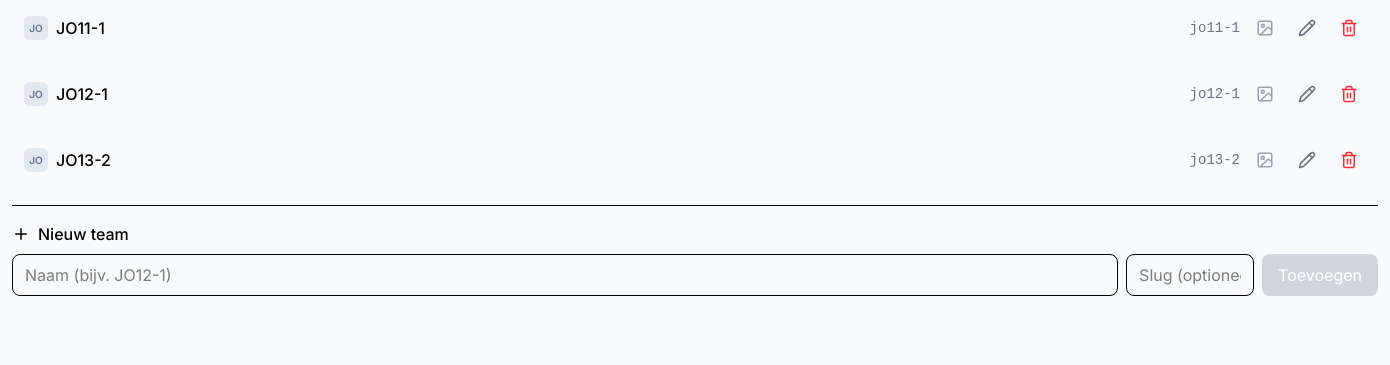
Test: TeamsTab › Create Team (CRUD) › shows Dutch success message after creating team
In the field with placeholder "Naam (bijv. JO12-1)": (565, 275) 12,254 -> 1118,296, type "JO14-1"
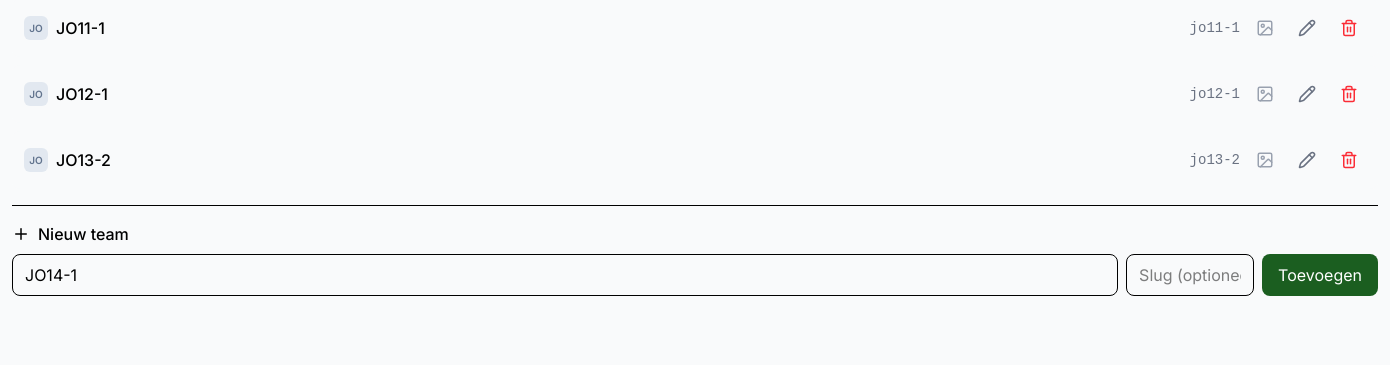
Click the button "Toevoegen": (1320, 275) 1262,254 -> 1378,296
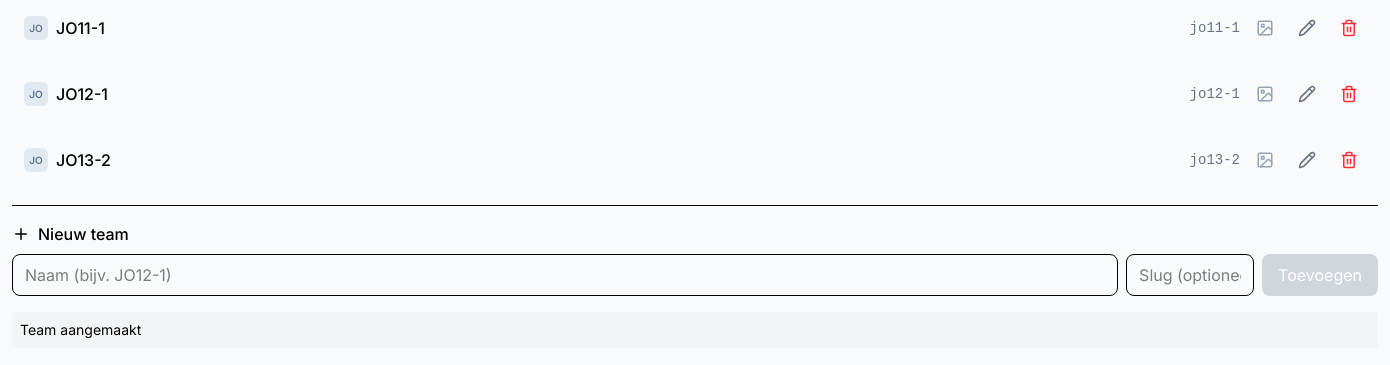
Now the text "Team aangemaakt" is shown, box 12,312 -> 1378,348
